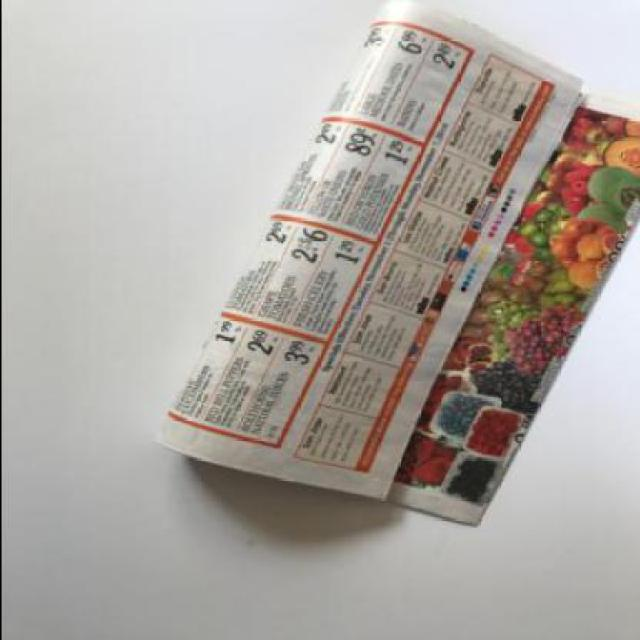PAPER: (158, 0, 638, 526)
